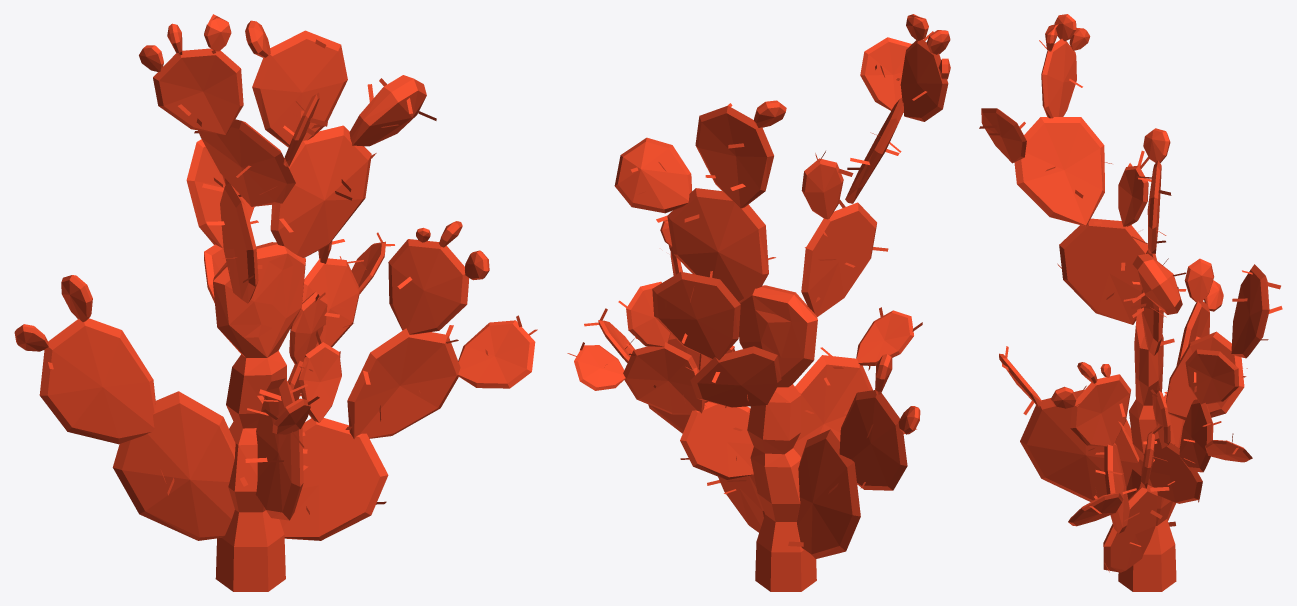
File: SM_Succulent_Opuntia_A.fbx
3 renders of one model, left to right at view 1: azimuth 30°, elevation 25°; view 2: azimuth 150°, elevation 25°; view 3: azimuth 270°, elevation 25°, orthographic. The views are drawn at different scales.
Visible parts, largest first — view 1: SM_Succulent_Opuntia_A; view 2: SM_Succulent_Opuntia_A; view 3: SM_Succulent_Opuntia_A.
Boxes of the visible parts, x1=… form: SM_Succulent_Opuntia_A: x1=14, y1=14, x2=537, y2=591; SM_Succulent_Opuntia_A: x1=567, y1=14, x2=950, y2=591; SM_Succulent_Opuntia_A: x1=979, y1=14, x2=1282, y2=591.
Size of the model in its own units: 1.44 by 1.91 by 1.01.
